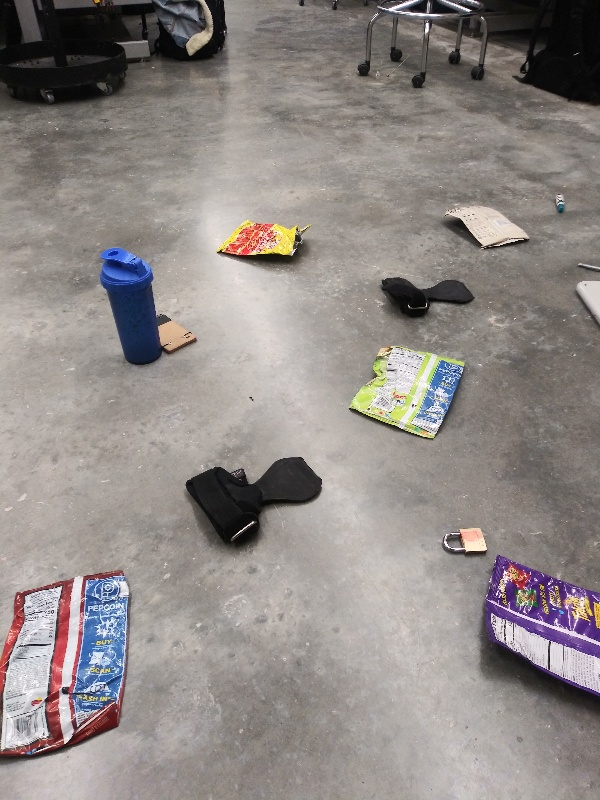bag: (1, 562, 134, 763), (478, 552, 600, 710), (346, 342, 470, 446), (439, 201, 536, 254), (212, 216, 315, 265)
